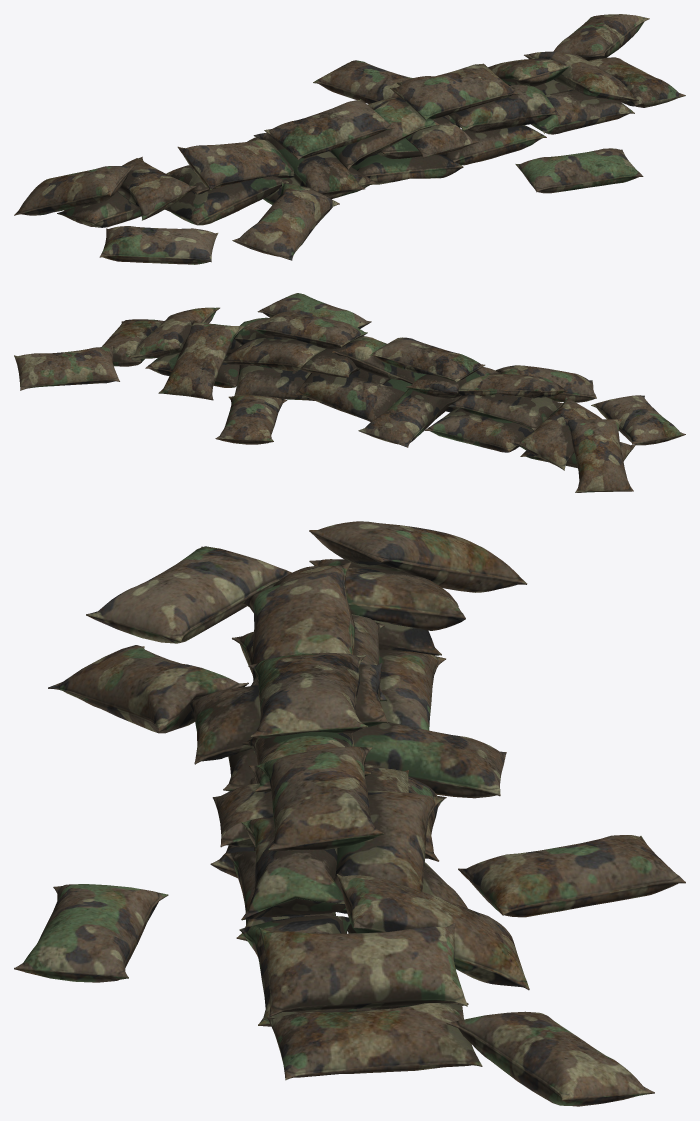
File: sandbags.glb
3 views of the same model, one above another, from view 1: azimuth 30°, elevation 25°; view 2: azimuth 150°, elevation 25°; view 3: azimuth 270°, elevation 25° (orthographic). The views are drawn at different scales.
Parts seen in each view (by area): view 1: Sandbags; view 2: Sandbags; view 3: Sandbags.
Part boxes in pixels (bbox=[...]): Sandbags: bbox=[14, 14, 685, 264]; Sandbags: bbox=[14, 293, 685, 492]; Sandbags: bbox=[14, 521, 685, 1106].
Bounding box in the file's own units: 4 × 0.4641 × 1.98.
1 material, 1 textured.
